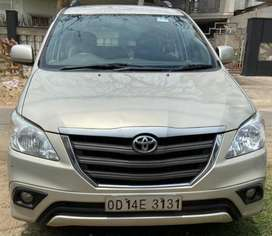OD14E3131: (105, 195, 181, 211)
